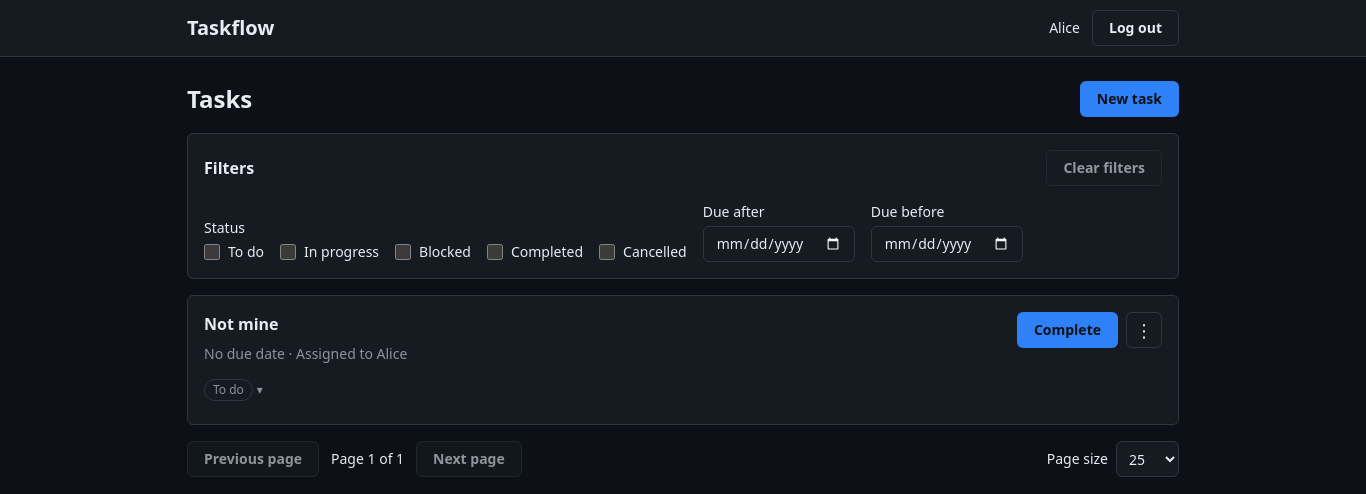
Test: status, complete and permissions › test_ac07_an_assignee_can_change_status_but_not_edit_delete_or_assign
Expected: the button with aria-label "change status" is shown, [204,372,263,408]
Expected: the button "Complete" is shown, [1017,312,1118,348]
Click the button named "actions for". click: (1144, 330)
box: [1126,312,1162,348]
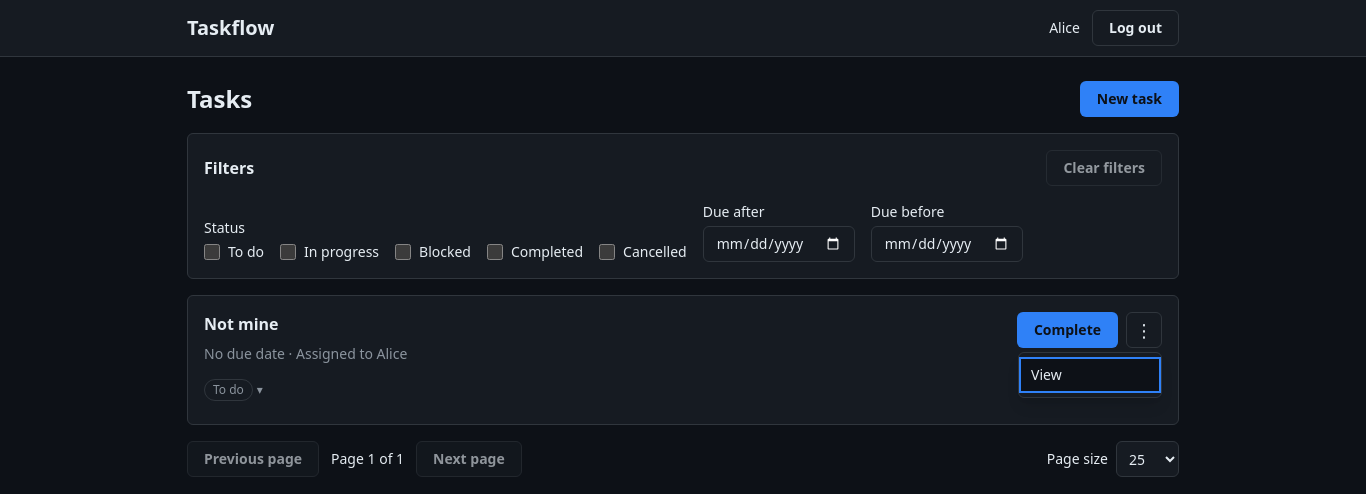
Now the menu items read "View", in this order, box [1019,357,1161,393]
